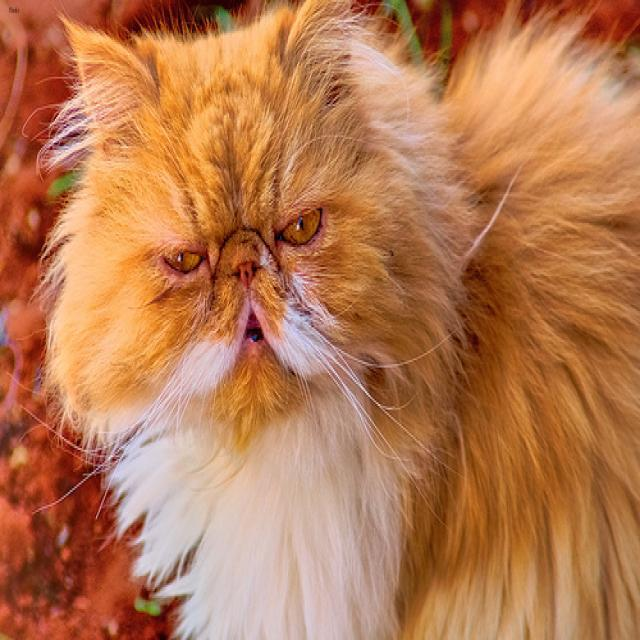Persian: (63, 0, 385, 415)
